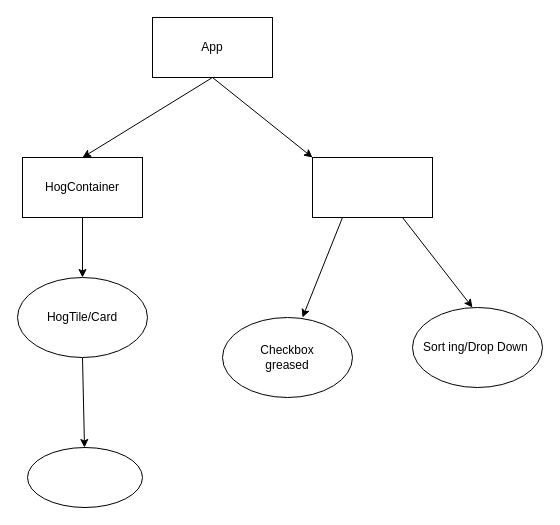
Image size: 560x525. Some labels were removed from this diagram. The shapes that lost their labels are listed below. From the top down, each one's centre as x and y in pixels, then its label:
[372,187]: Nav Bar
[84,477]: Hog Details
